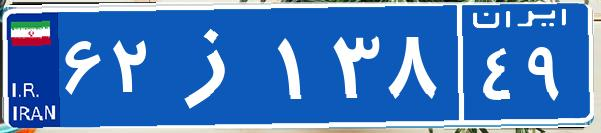1: (273, 28, 330, 110)
2: (110, 28, 158, 105)
3: (330, 28, 385, 110)
4: (475, 38, 525, 113)
6: (57, 26, 110, 107)
8: (385, 28, 445, 110)
9: (525, 38, 570, 115)
ز: (158, 15, 273, 115)
